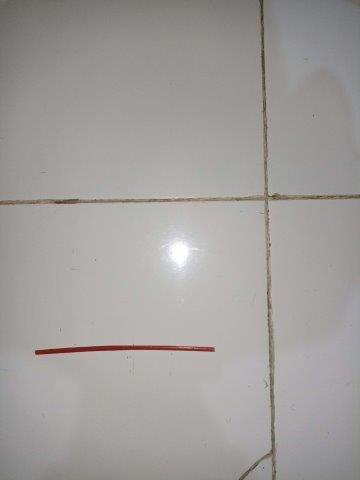sedotan: (35, 345, 215, 353)
